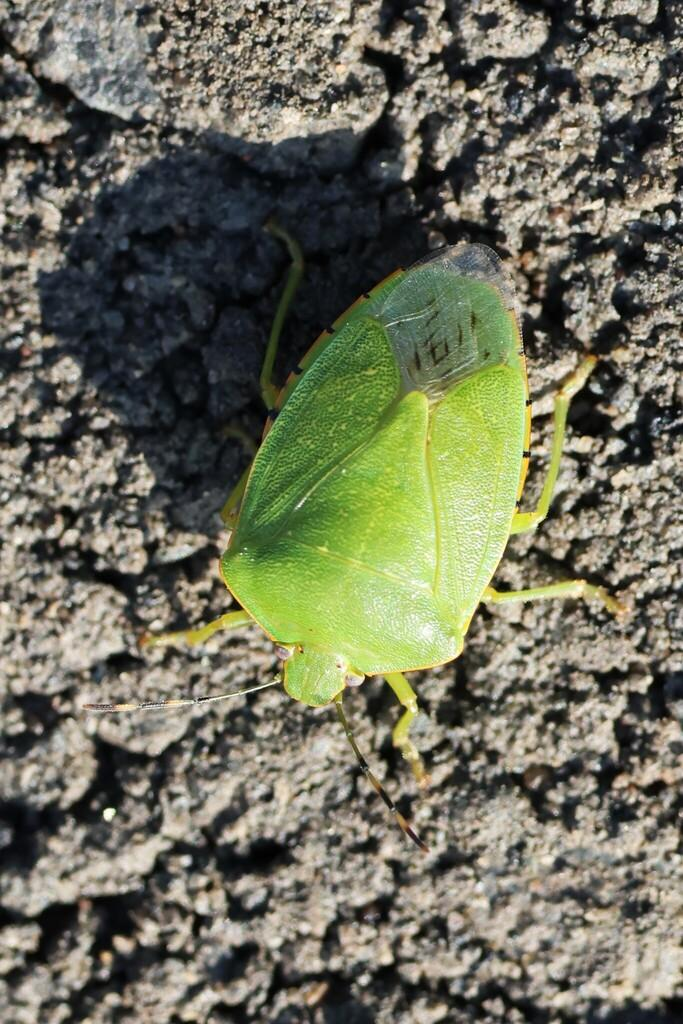stink_bugs: (66, 151, 664, 872)
